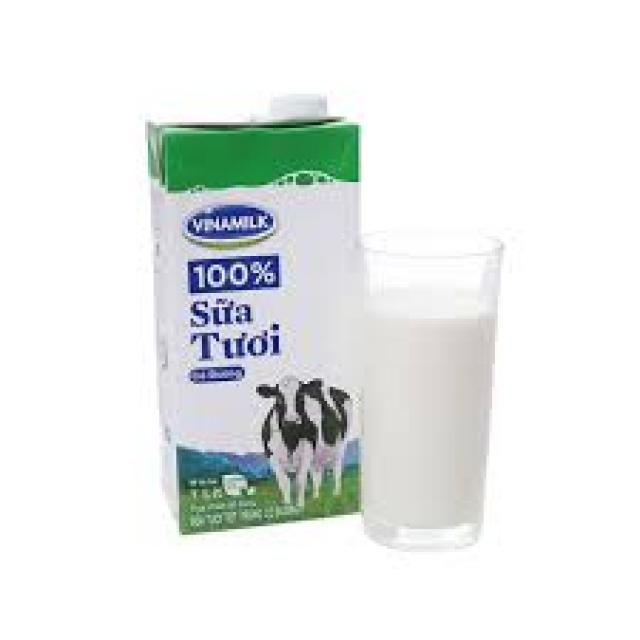non_white_jug: (112, 74, 397, 563)
